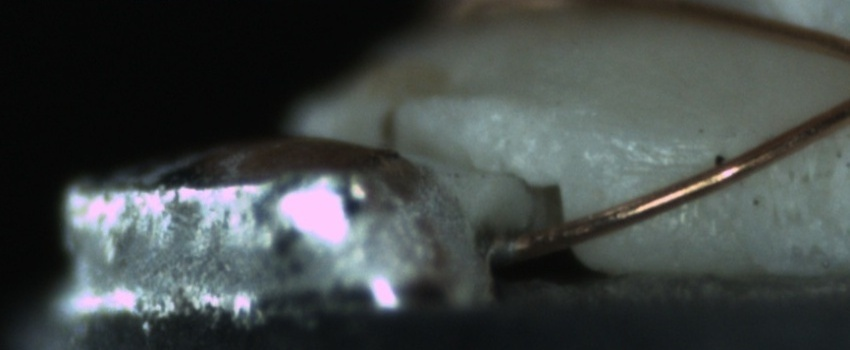DL: (608, 139, 738, 193)
